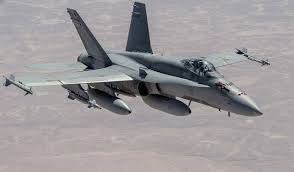fighter: (1, 2, 274, 122)
